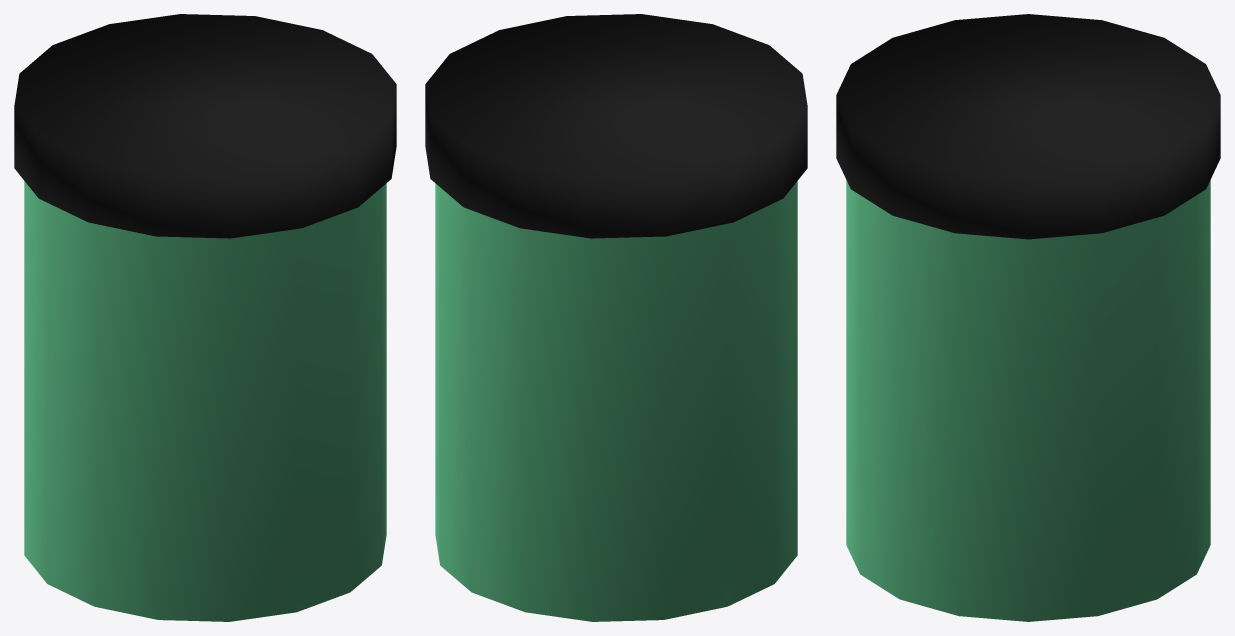
File: Cocina Tarro grande.fbx
3 views of the same model, side by side, from view 1: azimuth 30°, elevation 25°; view 2: azimuth 150°, elevation 25°; view 3: azimuth 270°, elevation 25° (orthographic).
Parts seen in each view (by area): view 1: Cocina Tarro; view 2: Cocina Tarro; view 3: Cocina Tarro.
Boxes of the visible parts, x1,y1,x2,y2 form: Cocina Tarro: [14, 14, 396, 621]; Cocina Tarro: [425, 14, 807, 621]; Cocina Tarro: [836, 14, 1220, 621].
Bounding box in the file's own units: 13.84 × 17.86 × 13.84.
